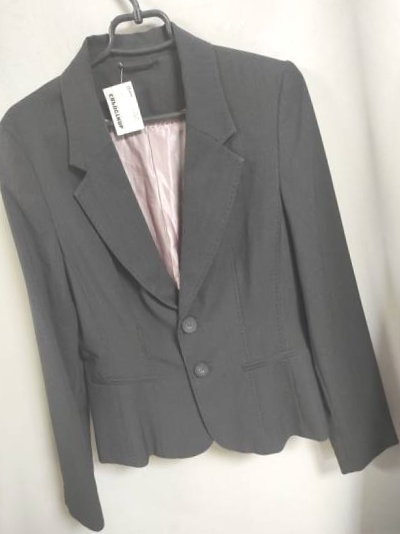Blazer: (0, 9, 400, 534), (369, 0, 400, 495), (0, 57, 26, 534)
